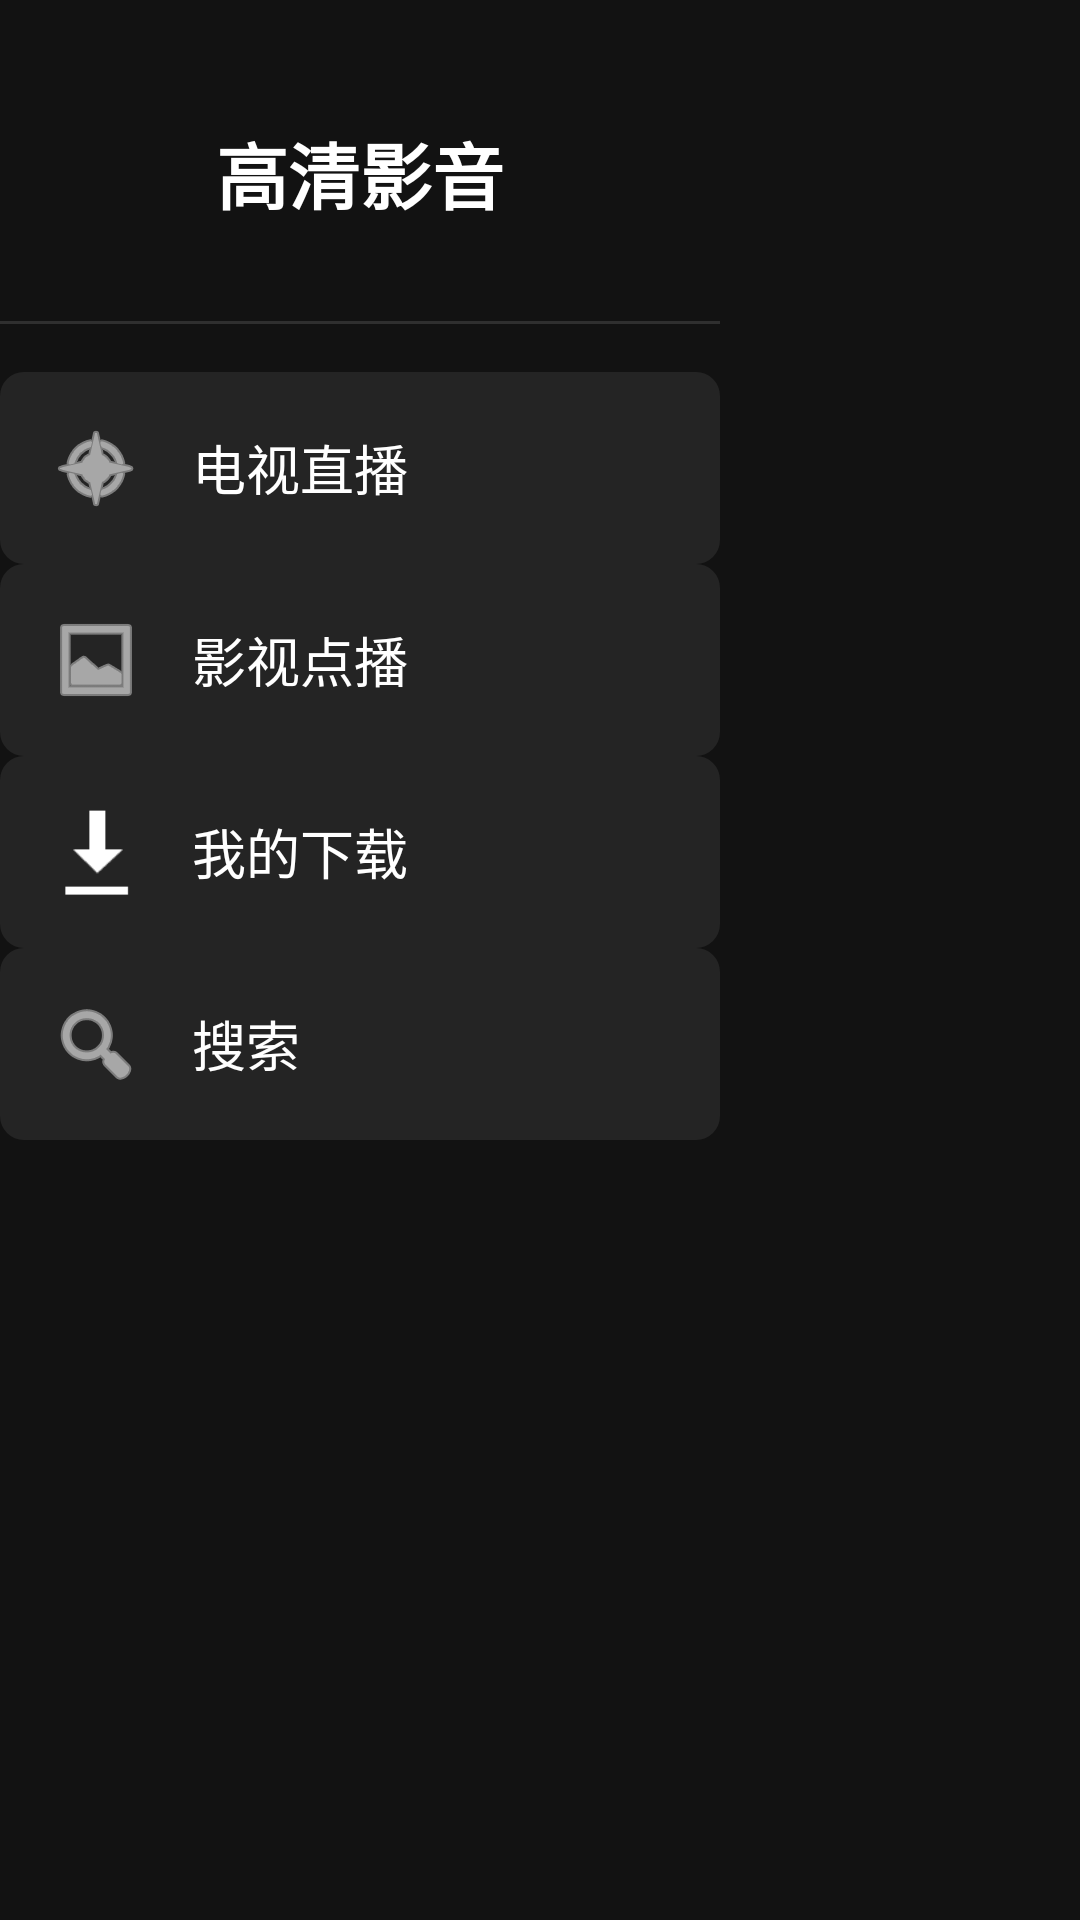

Where to tap for icons on this 1080x1920 app screen, as (x=x, y=y):
compass: (x=96, y=468)
download: (x=97, y=852)
gallery: (x=96, y=660)
search: (x=95, y=1044)
